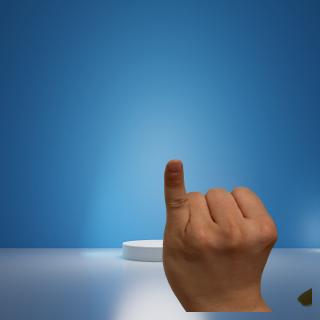FINE: (154, 154, 281, 307)
